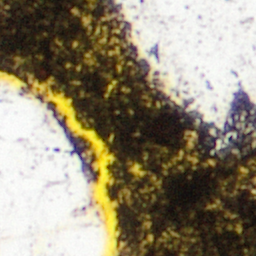cement_matrix: (0, 0, 255, 255), (72, 136, 94, 175), (133, 166, 140, 173)
cracks: (0, 70, 122, 255), (71, 135, 95, 176)
gravel_crushed_stones: (111, 0, 255, 148), (0, 80, 108, 255), (134, 167, 139, 172)
